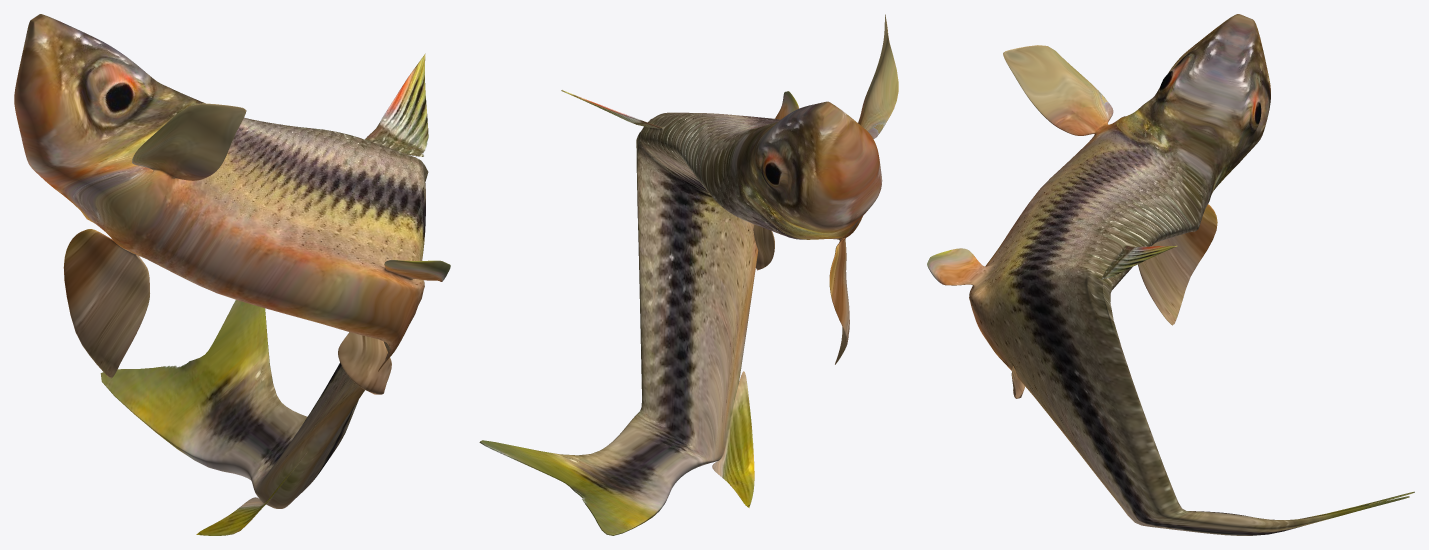
Rendered from kawamutu.fbx.
The picture shows the model from 3 angles, left to right: view 1: azimuth 30°, elevation 25°; view 2: azimuth 150°, elevation 25°; view 3: azimuth 270°, elevation 25°; orthographic projection. The views are drawn at different scales.
Visible parts, largest first — view 1: kawamutu_kurumeusu_mimurapCube1; view 2: kawamutu_kurumeusu_mimurapCube1; view 3: kawamutu_kurumeusu_mimurapCube1.
Part boxes in pixels (<box>): kawamutu_kurumeusu_mimurapCube1: <box>14,14,450,535</box>; kawamutu_kurumeusu_mimurapCube1: <box>479,14,898,535</box>; kawamutu_kurumeusu_mimurapCube1: <box>927,14,1414,535</box>.
Bounding box in the file's own units: 9.36 × 12.37 × 11.88.
Materials: 1 (1 with a texture image).
